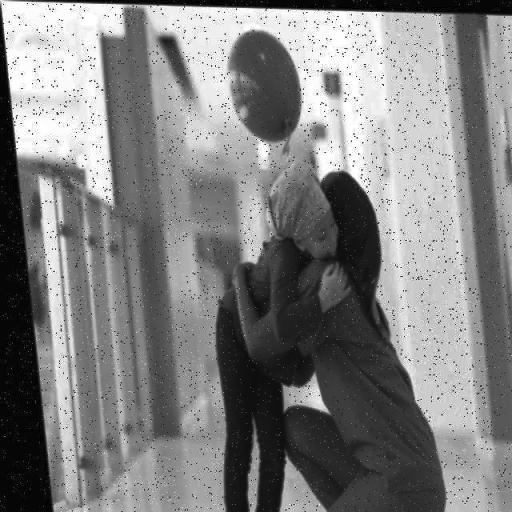balloon: (220, 23, 309, 146)
